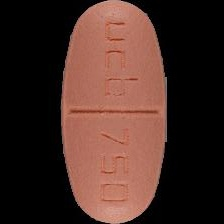50474-596: (0, 0, 224, 224)
